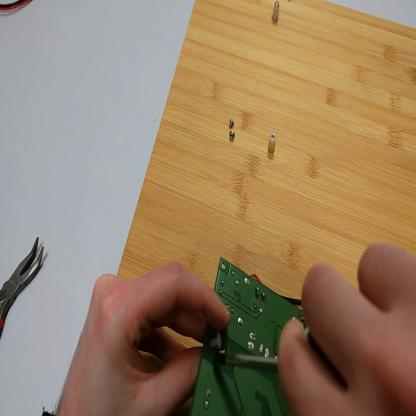hand: (56, 268, 232, 416), (278, 247, 416, 415)
low voltage board: (191, 261, 325, 415)
pliers: (2, 232, 45, 339)
screwdriver-: (213, 325, 313, 384)
working area: (116, 3, 416, 369)
